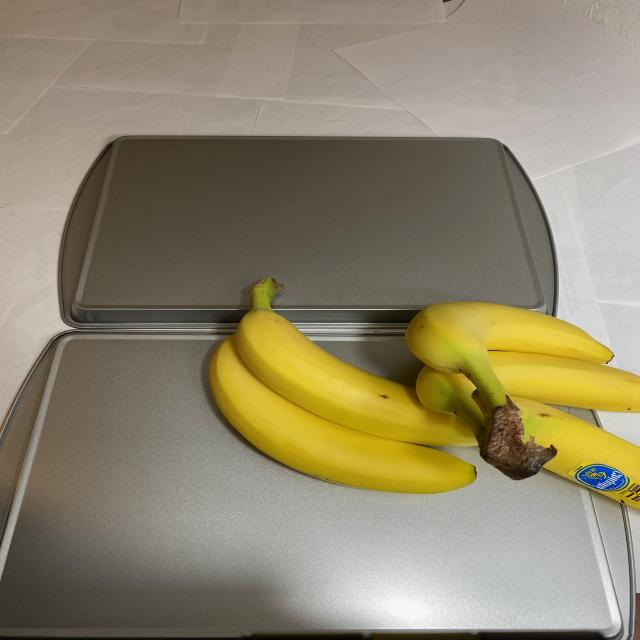banana: (205, 272, 636, 531)
